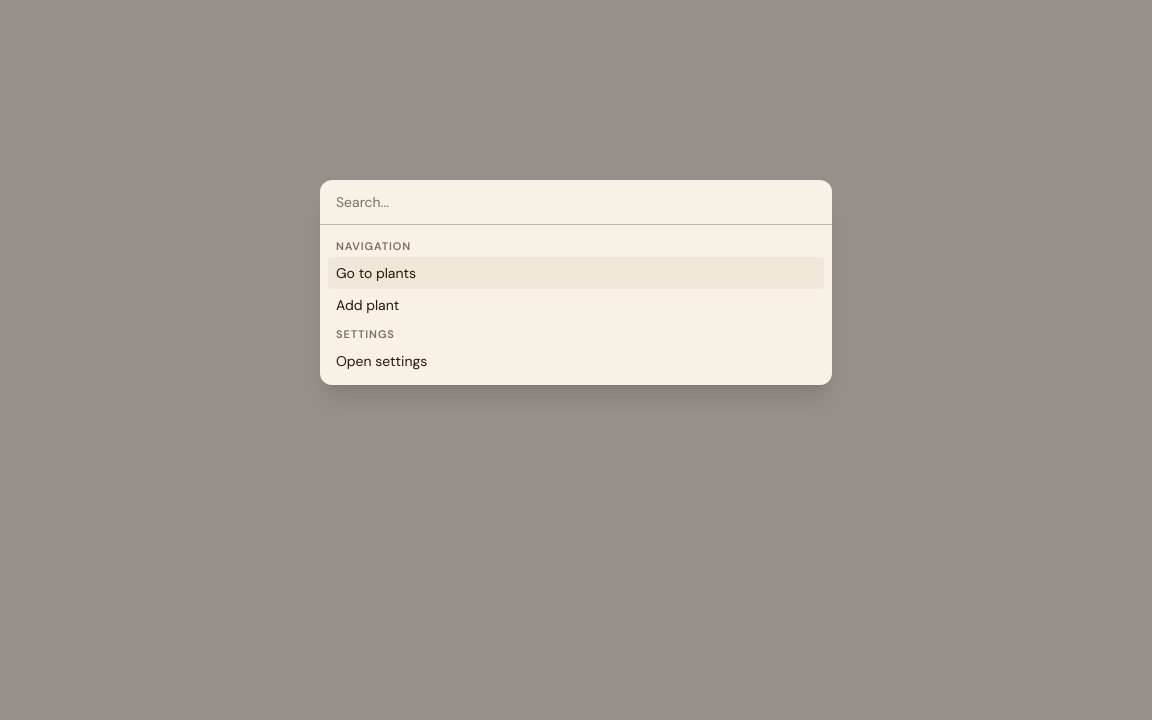
Test case: CommandPalette › filters commands by search input
Type "settings" into the dropdown.
click(576, 202); type("settings")  # box [320,180,832,225]
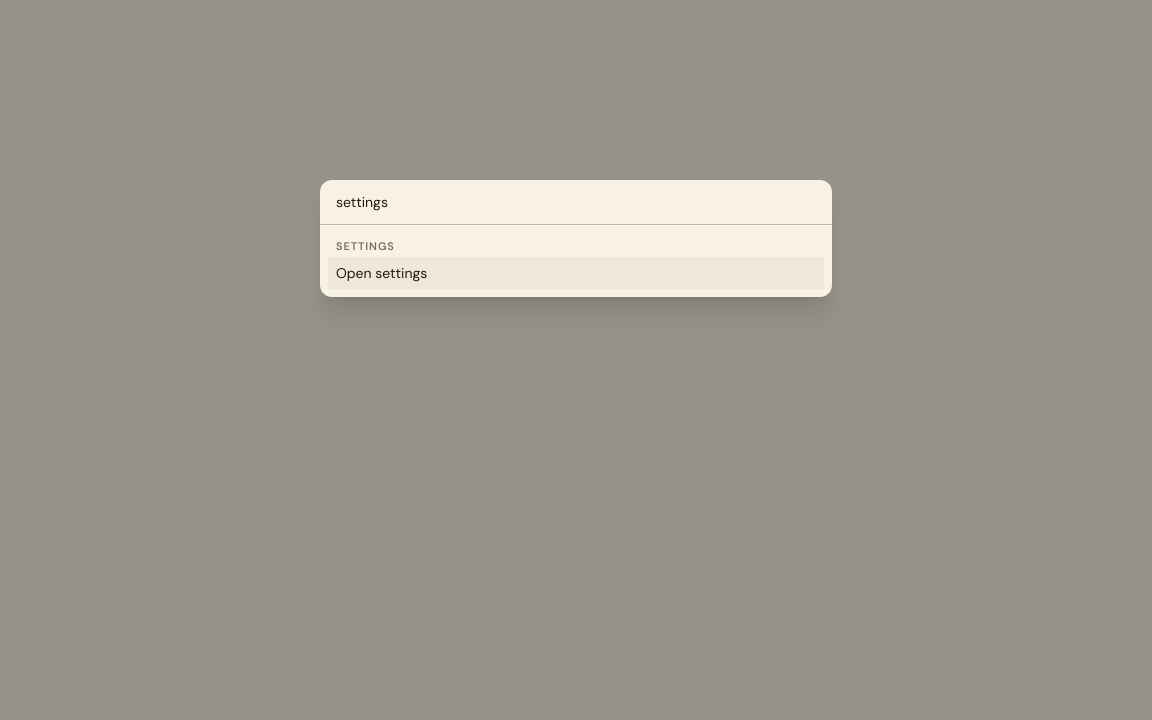
Expected: the option "Open settings" is shown, [328,257,824,289]
Expected: the option "Go to plants" is gone
